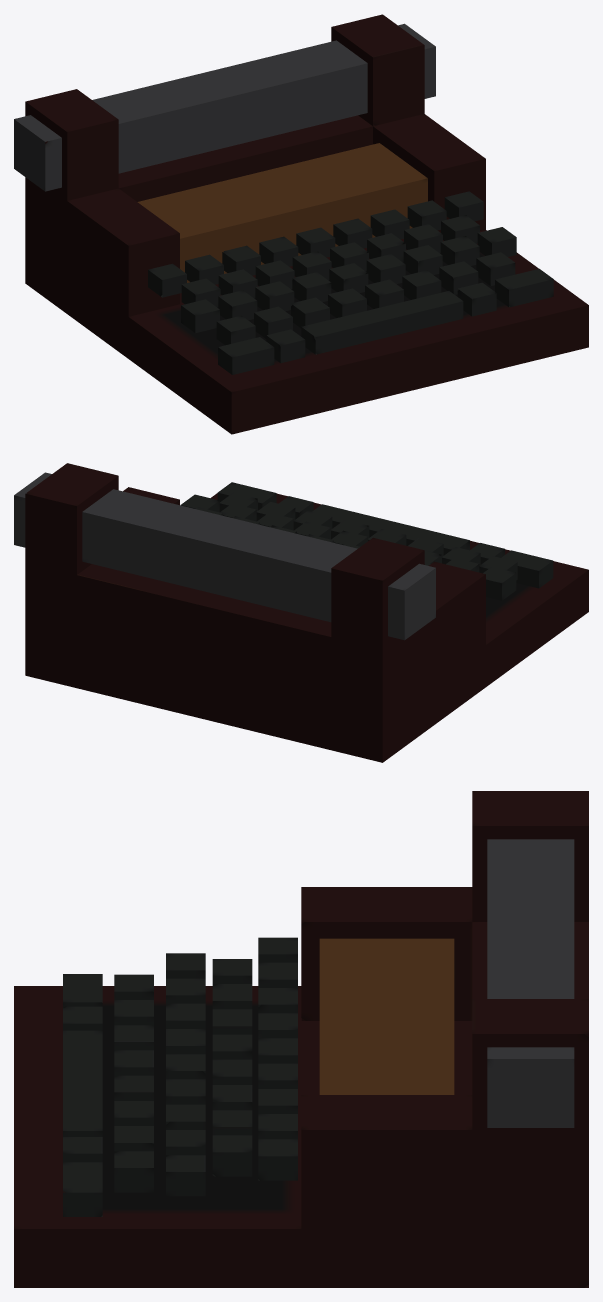
File: typewriter.obj
3 renders of one model, top to bottom at view 1: azimuth 30°, elevation 25°; view 2: azimuth 150°, elevation 25°; view 3: azimuth 270°, elevation 25°, orthographic. The views are drawn at different scales.
Visible parts, largest first — view 1: Plane; view 2: Plane; view 3: Plane.
Boxes of the visible parts, <box> form: Plane: <box>14,14,588,434</box>; Plane: <box>14,463,588,762</box>; Plane: <box>14,791,588,1287</box>.
Bounding box in the file's own units: 0.458 × 0.2039 × 0.4187.
Materials: 1 (1 with a texture image).
